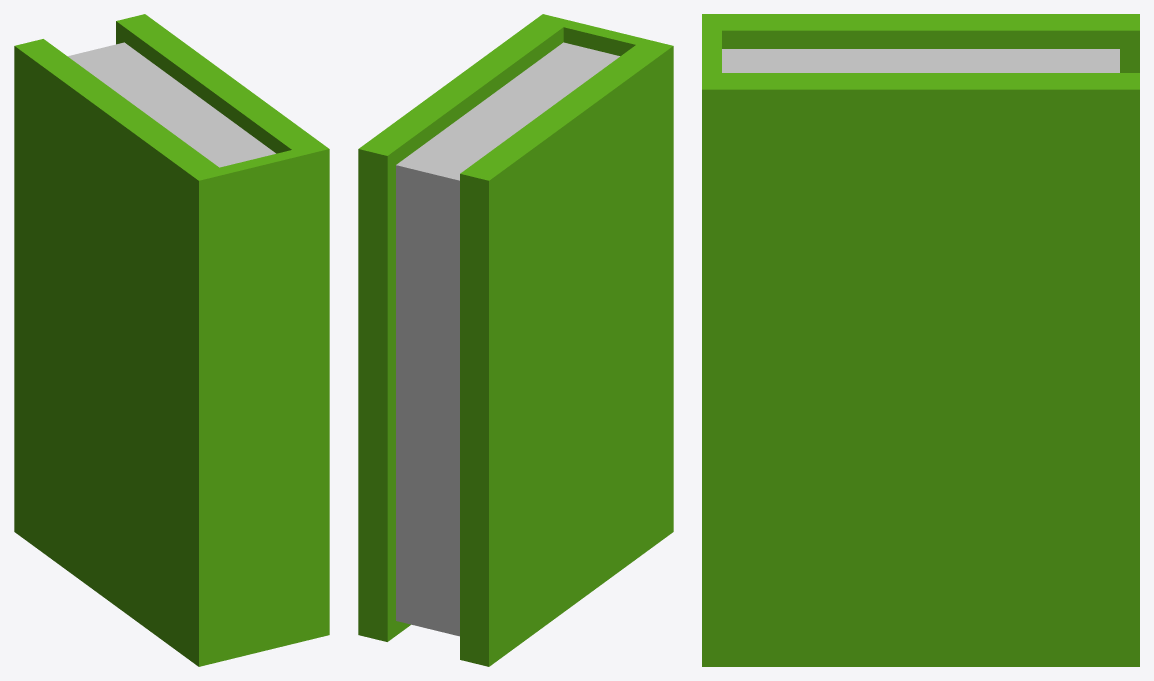
Rendered from GreenBook.fbx.
The picture shows the model from 3 angles, left to right: view 1: azimuth 30°, elevation 25°; view 2: azimuth 150°, elevation 25°; view 3: azimuth 270°, elevation 25°; orthographic projection. The views are drawn at different scales.
Visible parts, largest first — view 1: GreenBook; view 2: GreenBook; view 3: GreenBook.
Part boxes in pixels (bbox=[...]): GreenBook: bbox=[14, 14, 329, 666]; GreenBook: bbox=[358, 14, 673, 666]; GreenBook: bbox=[702, 14, 1139, 666].
Bounding box in the file's own units: 9 × 32 × 22.
1 material, 1 textured.
